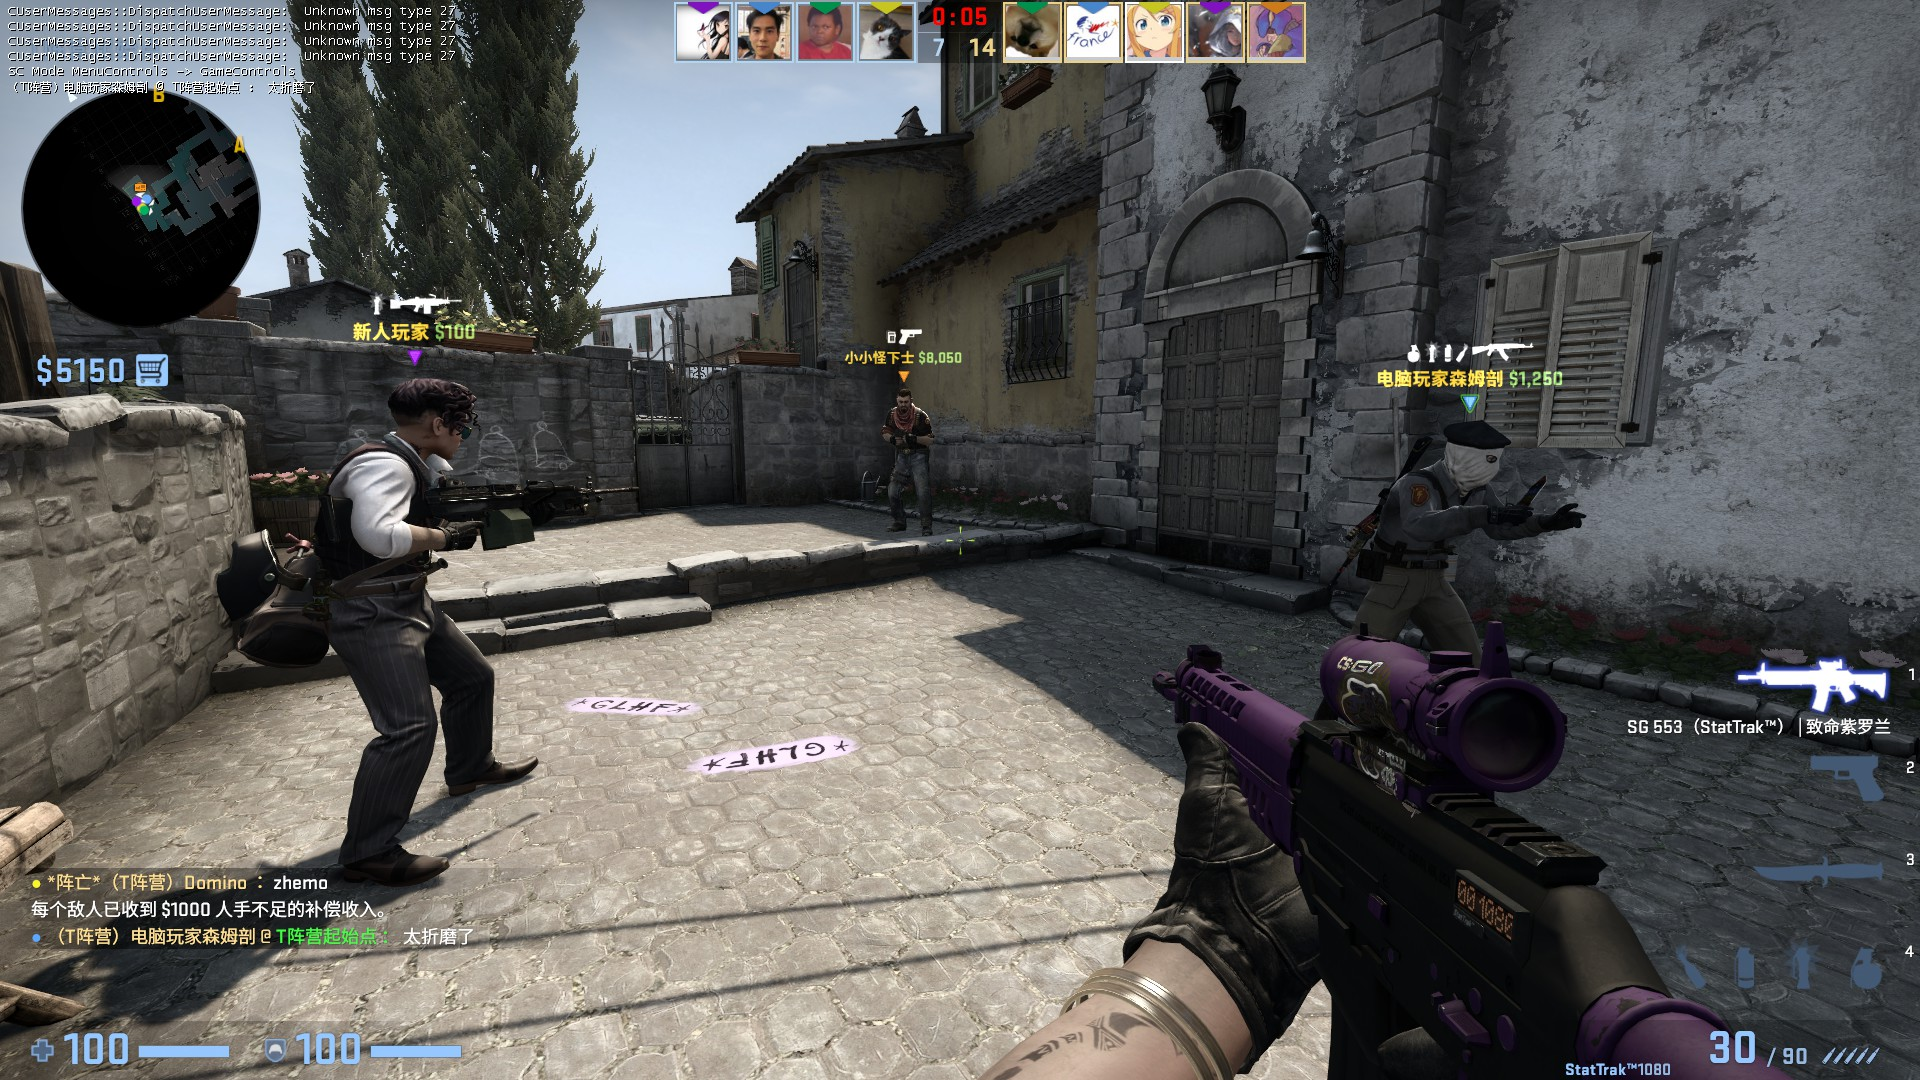head: (382, 374, 475, 460), (1439, 416, 1506, 487), (894, 386, 911, 409)
